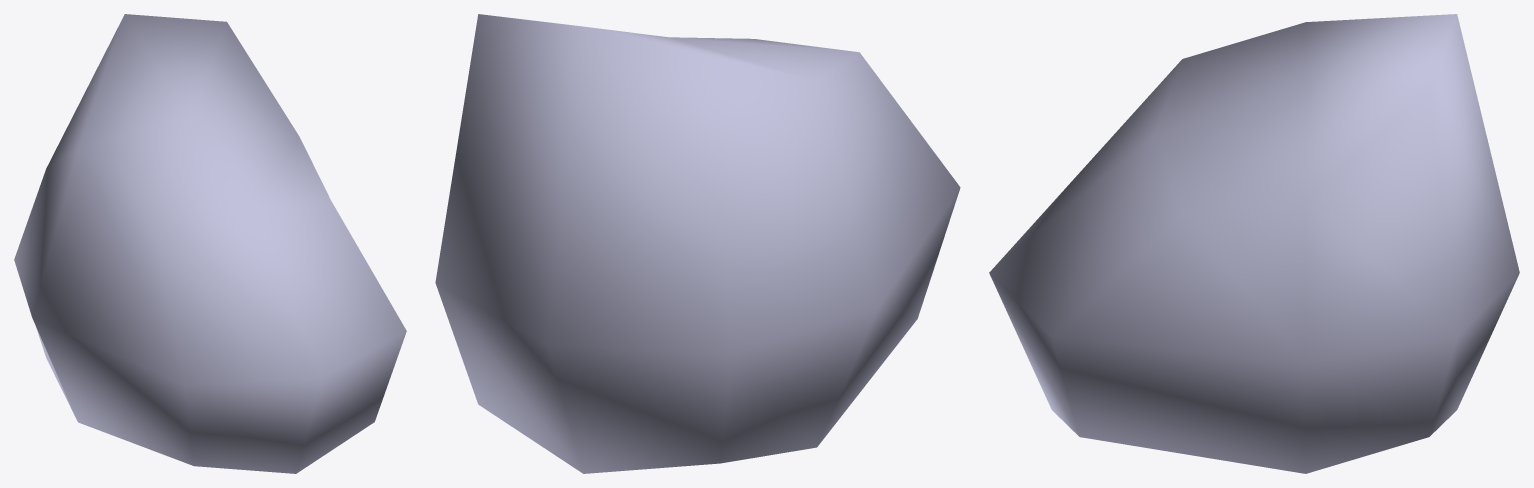
File: Rock_01.fbx
3 renders of one model, left to right at view 1: azimuth 30°, elevation 25°; view 2: azimuth 150°, elevation 25°; view 3: azimuth 270°, elevation 25°, orthographic. The views are drawn at different scales.
Visible parts, largest first — view 1: Rock; view 2: Rock; view 3: Rock.
Boxes of the visible parts, box(x1,y1,x2,y2) form: Rock: box(14, 14, 406, 473); Rock: box(435, 14, 960, 473); Rock: box(989, 14, 1519, 473).
Bounding box in the file's own units: 104 × 109 × 129.
